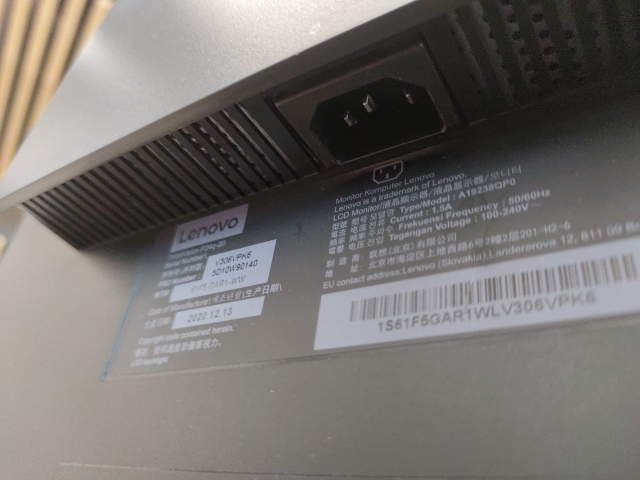IEC-Power: (310, 75, 446, 165)
